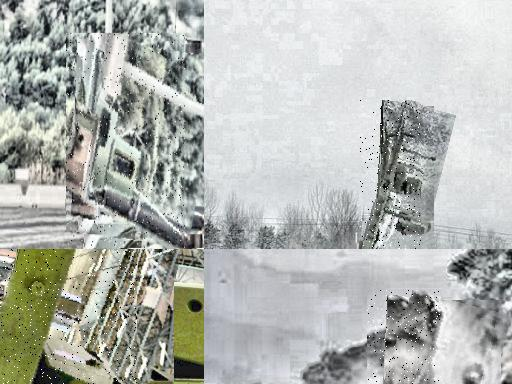tanks: (67, 34, 186, 249), (1, 250, 123, 384), (361, 102, 421, 250), (384, 291, 442, 384), (203, 210, 205, 217)
